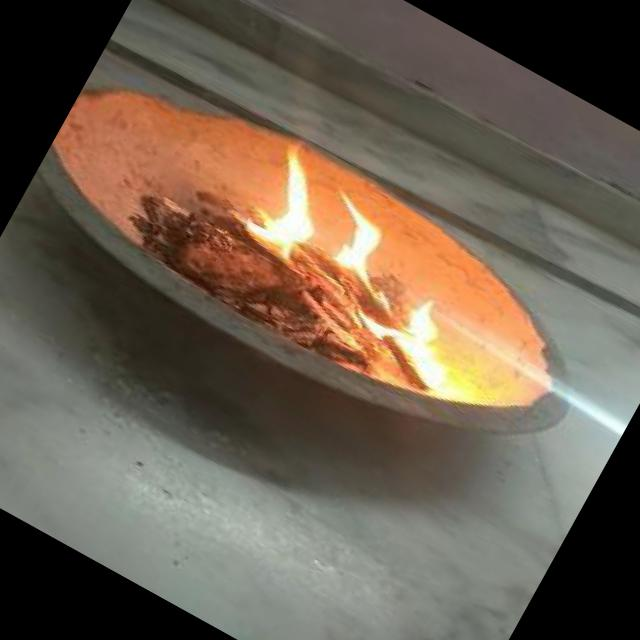fire: (200, 138, 518, 406)
